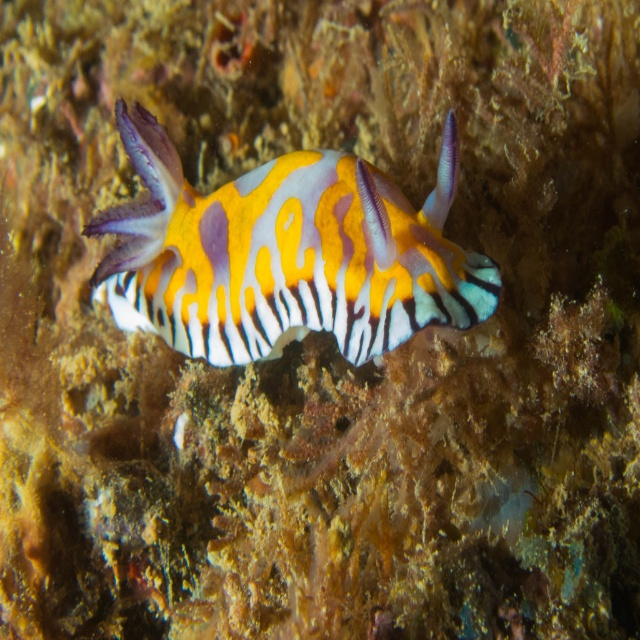Fish: (74, 104, 504, 396)
